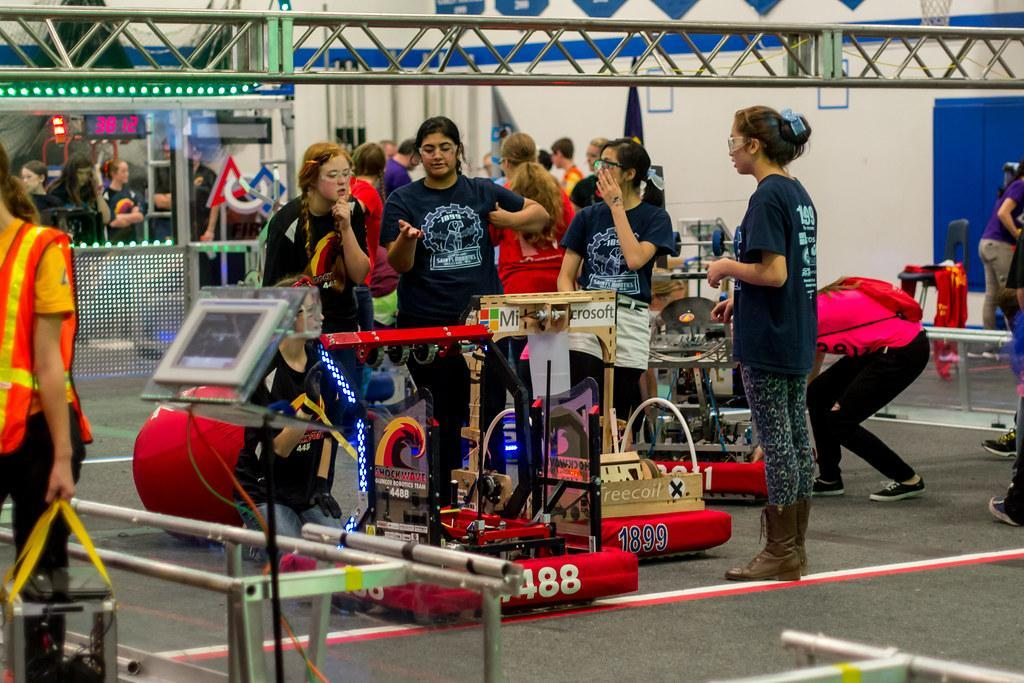robot: (274, 320, 639, 627), (462, 284, 736, 576), (607, 261, 820, 513)
